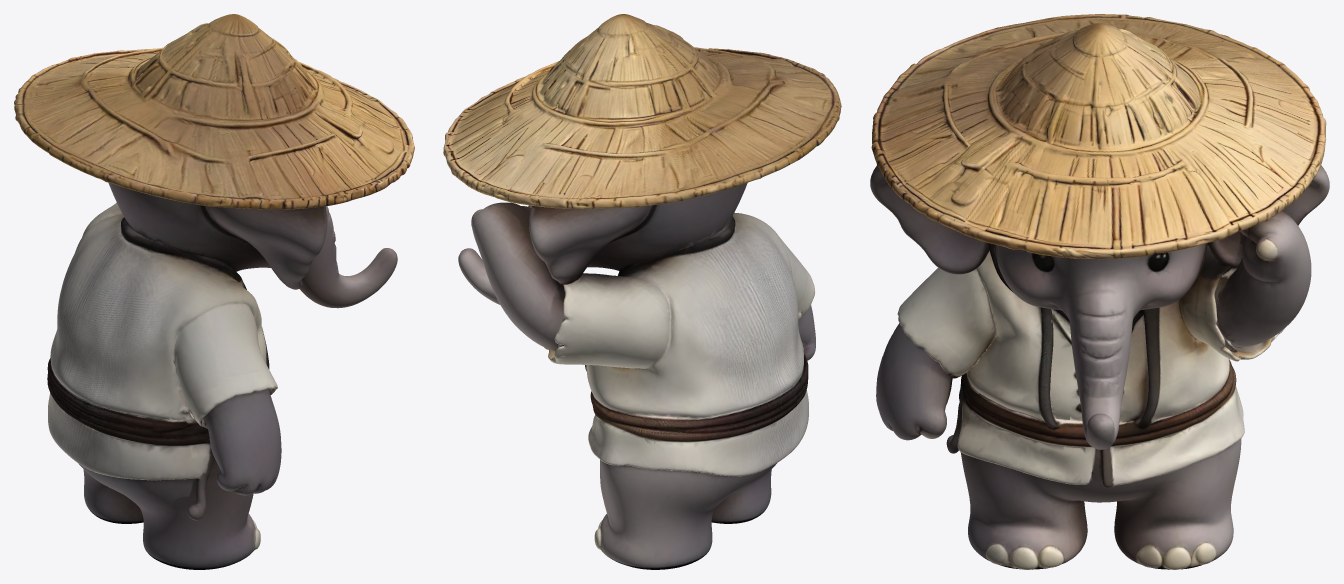
Rendered from role-2.glb.
3 views of the same model, side by side, from view 1: azimuth 30°, elevation 25°; view 2: azimuth 150°, elevation 25°; view 3: azimuth 270°, elevation 25° (orthographic). The views are drawn at different scales.
Visible parts, largest first — view 1: tripo_node_7e96bf47-c6a6-4495-8350-1913248ab2fe; view 2: tripo_node_7e96bf47-c6a6-4495-8350-1913248ab2fe; view 3: tripo_node_7e96bf47-c6a6-4495-8350-1913248ab2fe.
Boxes of the visible parts, bbox=[...] form: tripo_node_7e96bf47-c6a6-4495-8350-1913248ab2fe: bbox=[14, 14, 414, 569]; tripo_node_7e96bf47-c6a6-4495-8350-1913248ab2fe: bbox=[443, 14, 841, 569]; tripo_node_7e96bf47-c6a6-4495-8350-1913248ab2fe: bbox=[870, 14, 1329, 569].
Bounding box in the file's own units: 0.7436 × 1 × 0.7478.
Materials: 1 (1 with a texture image).
